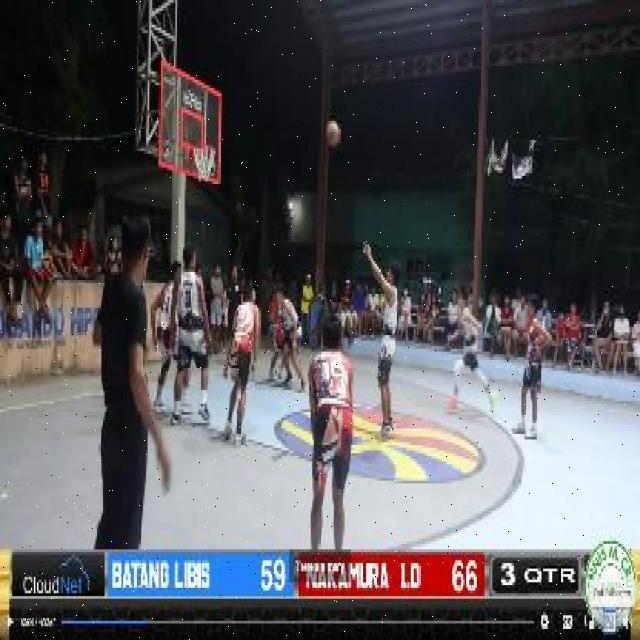ball: (326, 118, 342, 151)
hoop: (194, 140, 219, 157)
